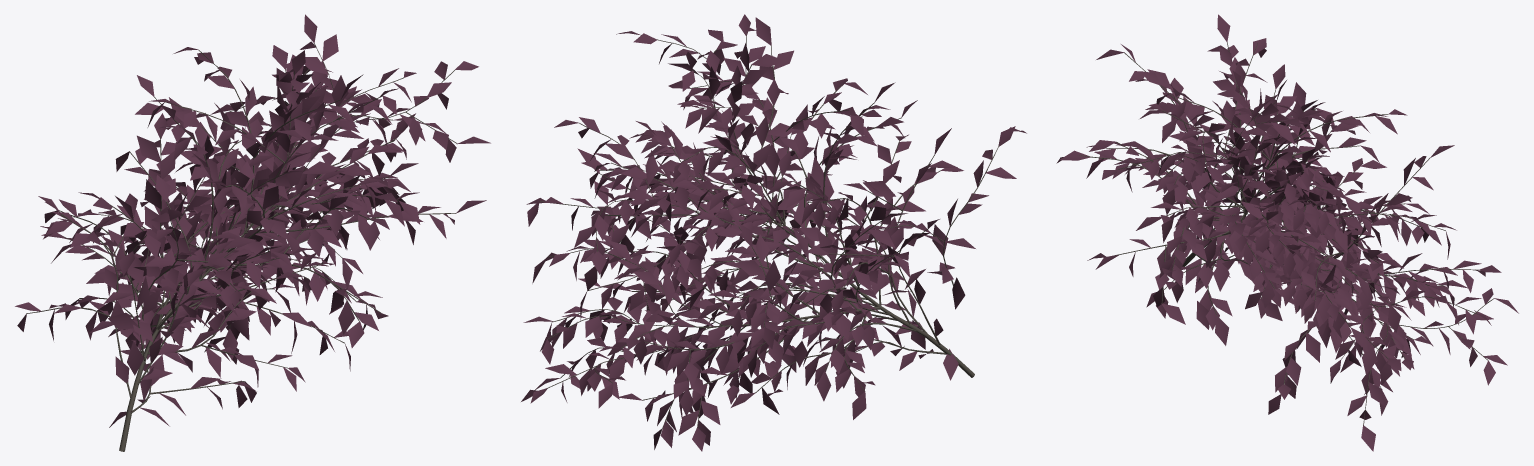
Rendered from Tree 5.glb.
The picture shows the model from 3 angles, left to right: view 1: azimuth 30°, elevation 25°; view 2: azimuth 150°, elevation 25°; view 3: azimuth 270°, elevation 25°; orthographic projection. The views are drawn at different scales.
Visible parts, largest first — view 1: Tree_Prunus-cerasifera_A_summer.003_Tree_Prunus-cerasifera_A; view 2: Tree_Prunus-cerasifera_A_summer.003_Tree_Prunus-cerasifera_A; view 3: Tree_Prunus-cerasifera_A_summer.003_Tree_Prunus-cerasifera_A.
Boxes of the visible parts, <box> form: Tree_Prunus-cerasifera_A_summer.003_Tree_Prunus-cerasifera_A: <box>15,14,490,451</box>; Tree_Prunus-cerasifera_A_summer.003_Tree_Prunus-cerasifera_A: <box>521,14,1026,451</box>; Tree_Prunus-cerasifera_A_summer.003_Tree_Prunus-cerasifera_A: <box>1056,14,1518,451</box>.
Bounding box in the file's own units: 2.47 × 2.28 × 2.78.
